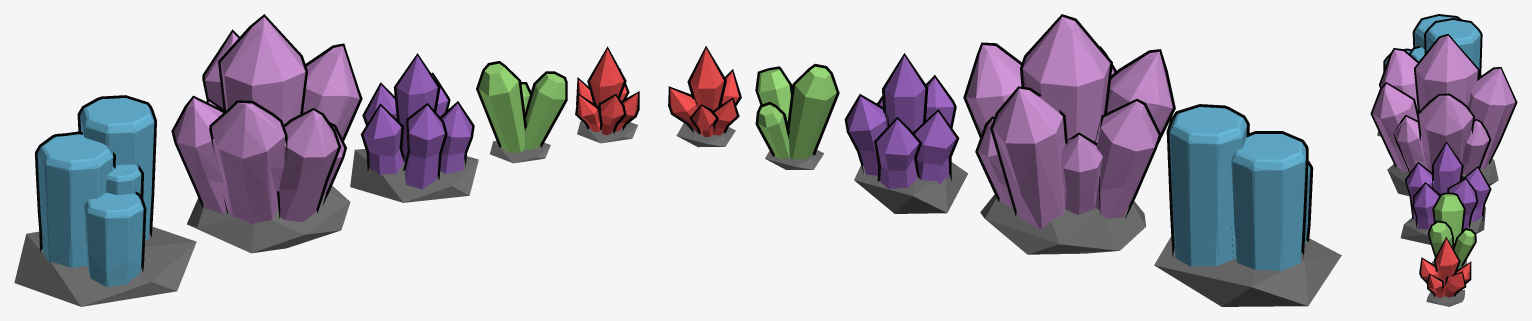
Rendered from crystals.glb.
The picture shows the model from 3 angles, left to right: view 1: azimuth 30°, elevation 25°; view 2: azimuth 150°, elevation 25°; view 3: azimuth 270°, elevation 25°; orthographic projection. The views are drawn at different scales.
Parts seen in each view (by area): view 1: Circle.005_10, Circle.003_8, Circle.007_12, Icosphere.016_4, Circle.009_14, Icosphere.015_3, Icosphere.013_1, Circle.004_9, Circle.011_16, Circle.006_11, Circle.002_7, Circle.008_13 (+3 smaller); view 2: Circle.005_10, Circle.003_8, Circle.007_12, Icosphere.016_4, Icosphere.015_3, Circle.009_14, Circle.004_9, Circle.011_16, Icosphere.013_1, Circle.006_11, Circle.002_7, Circle.008_13 (+3 smaller); view 3: Circle.005_10, Circle.007_12, Circle.003_8, Circle.009_14, Circle.004_9, Circle.011_16, Circle.006_11, Icosphere.015_3, Icosphere.013_1, Circle.002_7, Circle.008_13, Circle.010_15 (+1 smaller).
Boxes of the visible parts, x1=… form: Circle.005_10: x1=174, y1=17, x2=359, y2=223; Circle.003_8: x1=37, y1=98, x2=154, y2=286; Circle.007_12: x1=363, y1=56, x2=471, y2=189; Icosphere.016_4: x1=14, y1=226, x2=196, y2=306; Circle.009_14: x1=478, y1=63, x2=565, y2=152; Icosphere.015_3: x1=187, y1=186, x2=350, y2=253; Icosphere.013_1: x1=350, y1=149, x2=478, y2=202; Circle.004_9: x1=171, y1=14, x2=362, y2=218; Circle.011_16: x1=577, y1=49, x2=638, y2=135; Circle.006_11: x1=360, y1=53, x2=474, y2=179; Circle.002_7: x1=35, y1=95, x2=156, y2=271; Circle.008_13: x1=476, y1=61, x2=567, y2=147; Circle.005_10: x1=966, y1=16, x2=1172, y2=228; Circle.003_8: x1=1169, y1=107, x2=1310, y2=270; Circle.007_12: x1=847, y1=56, x2=956, y2=188; Icosphere.016_4: x1=1154, y1=236, x2=1341, y2=306; Icosphere.015_3: x1=980, y1=194, x2=1146, y2=254; Circle.009_14: x1=758, y1=66, x2=836, y2=159; Circle.004_9: x1=963, y1=14, x2=1175, y2=218; Circle.011_16: x1=670, y1=48, x2=739, y2=136; Icosphere.013_1: x1=854, y1=162, x2=968, y2=213; Circle.006_11: x1=844, y1=53, x2=959, y2=181; Circle.002_7: x1=1166, y1=104, x2=1313, y2=259; Circle.008_13: x1=755, y1=64, x2=839, y2=156; Circle.005_10: x1=1372, y1=35, x2=1515, y2=175; Circle.007_12: x1=1406, y1=143, x2=1489, y2=229; Circle.003_8: x1=1385, y1=16, x2=1480, y2=68; Circle.009_14: x1=1429, y1=194, x2=1474, y2=268; Circle.004_9: x1=1370, y1=34, x2=1517, y2=172; Circle.011_16: x1=1421, y1=239, x2=1470, y2=297; Circle.006_11: x1=1404, y1=141, x2=1491, y2=228; Icosphere.015_3: x1=1387, y1=159, x2=1498, y2=195; Icosphere.013_1: x1=1400, y1=207, x2=1485, y2=244; Circle.002_7: x1=1383, y1=14, x2=1482, y2=76; Circle.008_13: x1=1427, y1=192, x2=1476, y2=266; Circle.010_15: x1=1419, y1=237, x2=1471, y2=297.
Bounding box in the file's own units: 0.6237 × 0.2102 × 0.1797.
